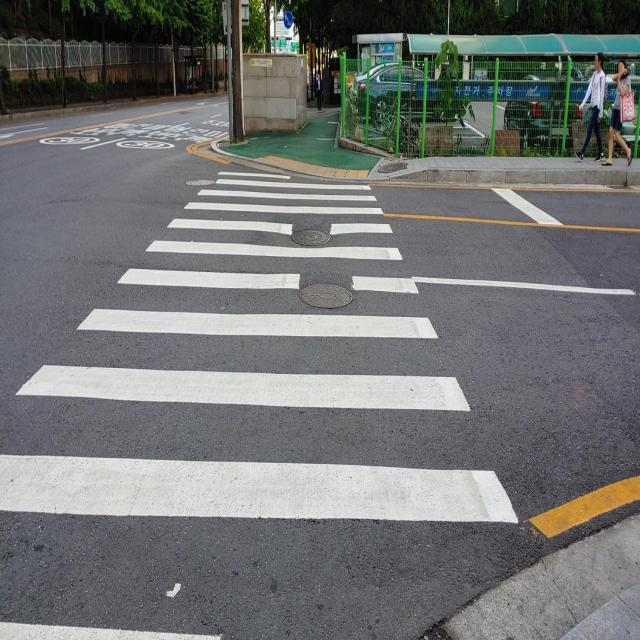횡단보도: (0, 169, 520, 639)
